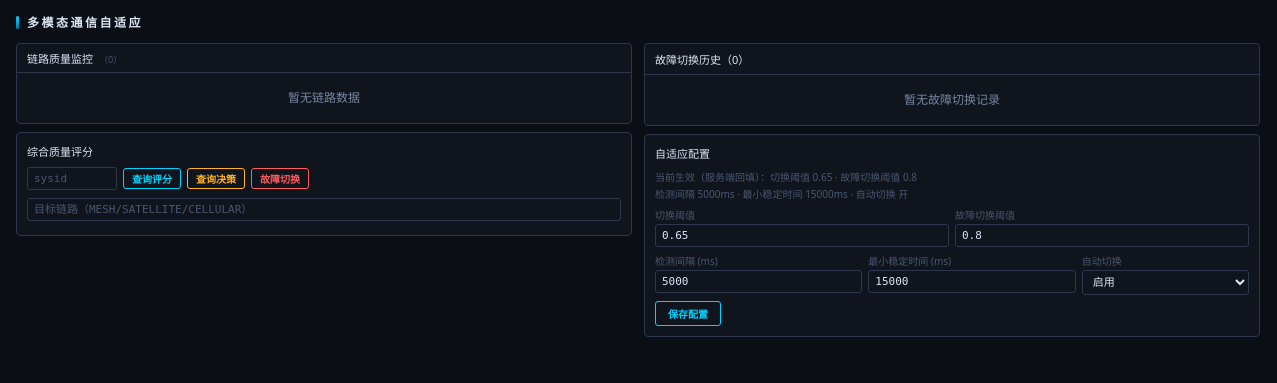
CommAdaptPanel：能看到服务端当前生效的自适应配置 › 保存成功后生效值跟着后端返回值变（决定性判据）
Expected: the text "当前生效（服务端回填）：切换阈值 0.65 · 故障切换阈值 0.8" is shown, x1=655 y1=170 x2=917 y2=184
Click the button "保存配置". click: (688, 313)
box: x1=655 y1=301 x2=721 y2=326
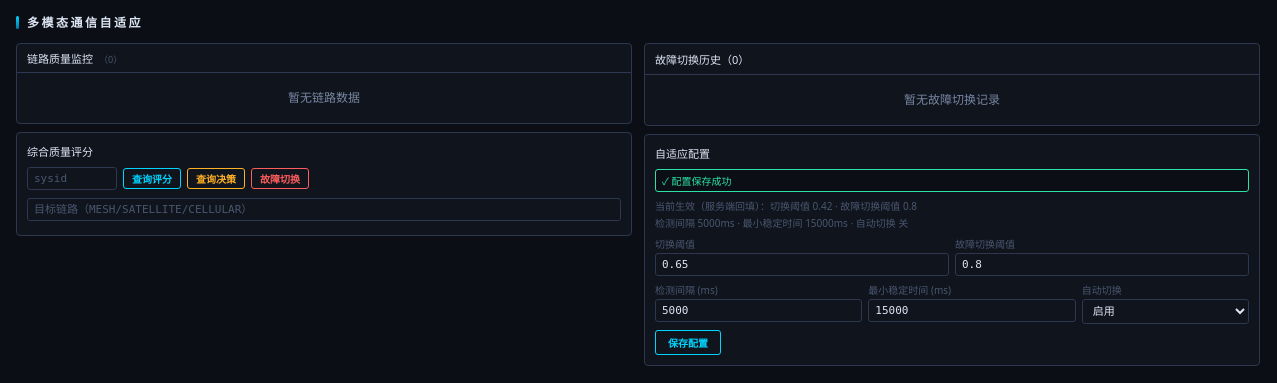
Expected: the text "当前生效（服务端回填）：切换阈值 0.42 · 故障切换阈值 0.8" is shown, x1=655 y1=199 x2=917 y2=213
Expected: the text "检测间隔 5000ms · 最小稳定时间 15000ms · 自动切换 关" is shown, x1=655 y1=216 x2=908 y2=230
Expected: the text "切换阈值 0.65" is gone
